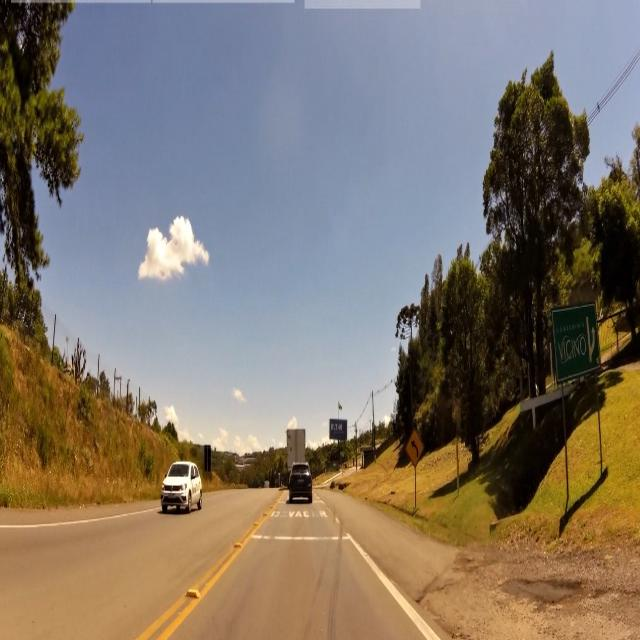A-2a: (405, 427, 427, 468)
